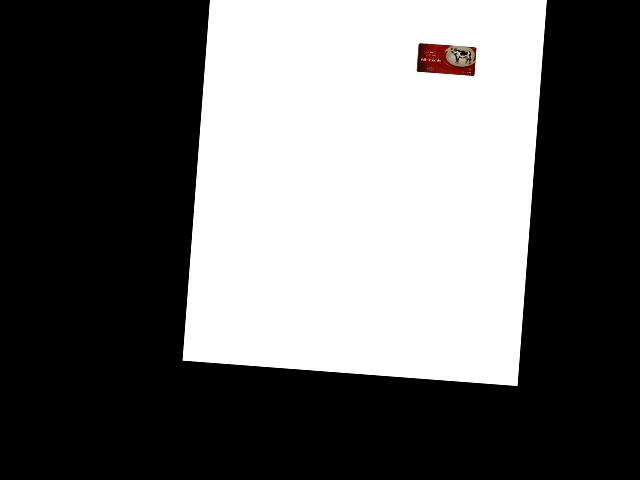chocolate: (415, 43, 476, 77)
